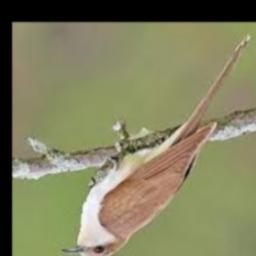Cuckoo: (60, 34, 252, 256)
